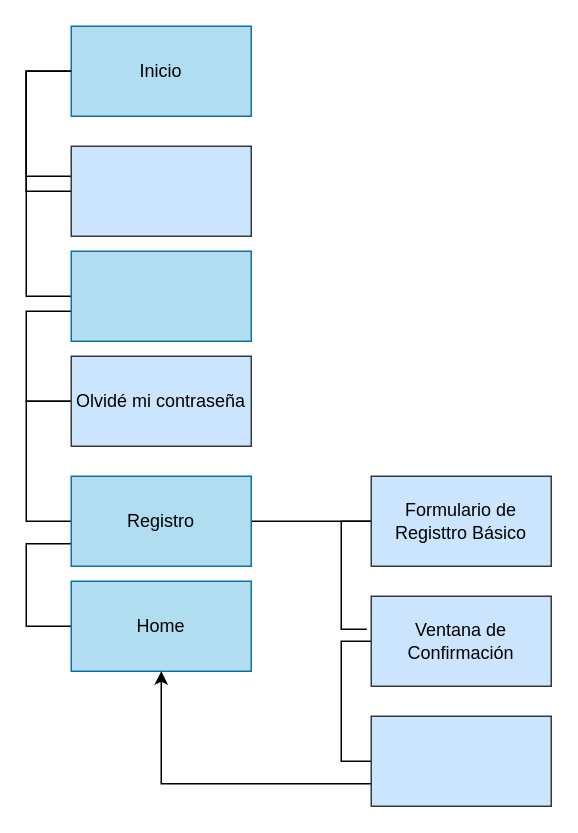
This 578x833 diagram has some shape labels left out. The centre of each missing label's shape, as x and y in pixels:
"Formulario de Registro completo" belongs at pixel 460 760.
"Login" belongs at pixel 160 295.
"Oficina Virtual" belongs at pixel 160 190.
